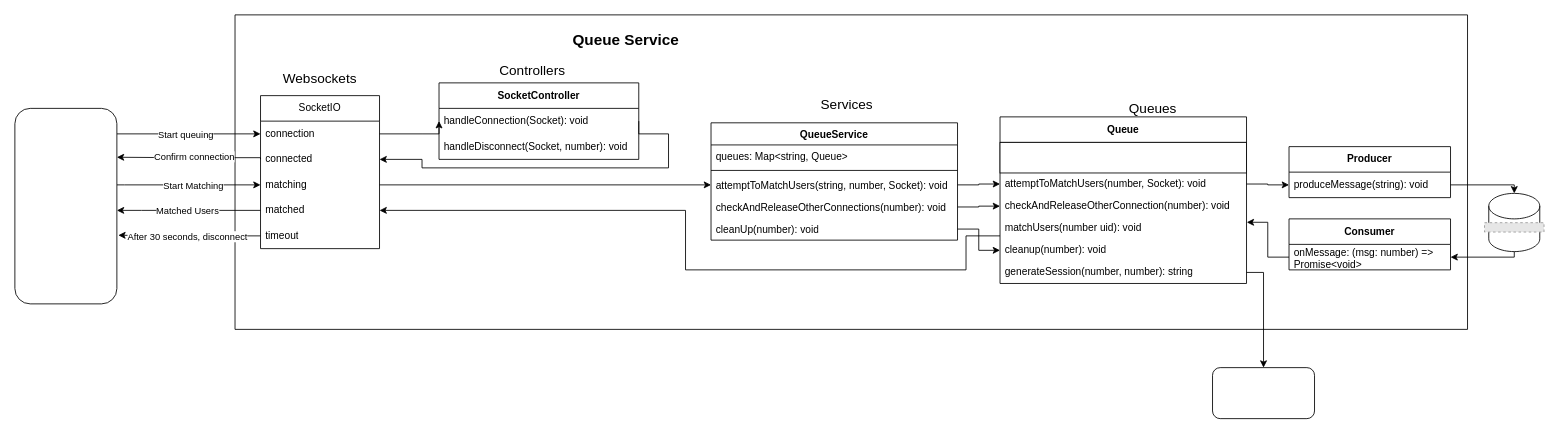
Image size: 1559x434. Some labels were removed from this diagram. Grey dashed boxes stand in for pictures. Here are the shapes that lost their labels. From the top down, the centre of each, then its label:
At point 1123,157: "nameSpace: string socketMap: Map<number, Socket>".
At point 65,206: "Frontend".
At point 1263,393: "Session Service".
